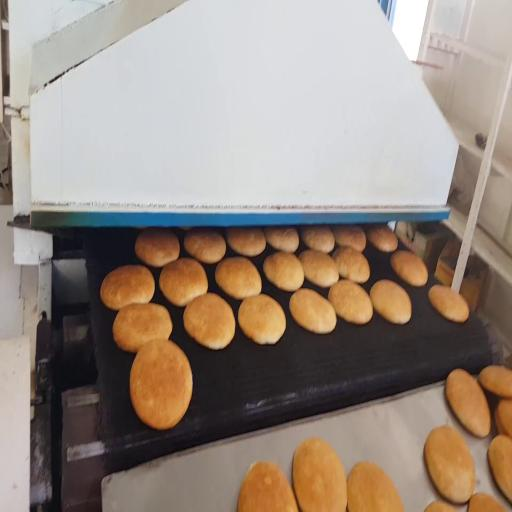bread: (130, 340, 192, 429), (293, 438, 347, 511), (424, 426, 475, 503), (446, 369, 491, 438), (238, 462, 297, 511), (113, 303, 172, 352), (184, 293, 235, 349), (348, 462, 403, 511), (238, 295, 286, 344), (159, 258, 208, 306), (101, 266, 154, 310), (290, 289, 336, 333), (328, 280, 373, 324), (215, 257, 261, 299), (370, 280, 411, 324), (135, 228, 179, 267), (263, 252, 304, 291), (488, 435, 511, 502), (429, 285, 469, 322), (184, 229, 226, 264), (299, 250, 338, 287), (333, 247, 370, 283), (391, 251, 428, 286), (227, 228, 266, 256), (479, 366, 511, 398), (264, 227, 299, 252), (302, 226, 334, 252), (333, 226, 366, 251), (367, 226, 398, 252), (468, 494, 505, 511), (495, 399, 511, 437), (495, 408, 506, 434), (425, 502, 456, 511)
